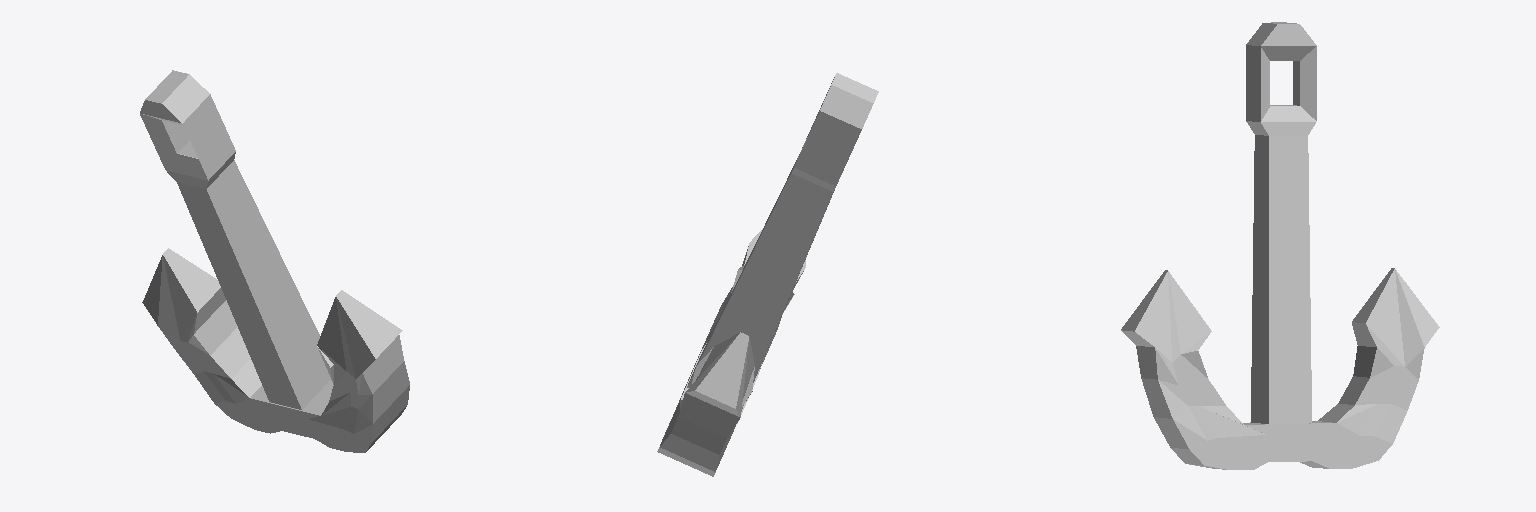
Rendered from anchor.obj.
3 renders of one model, left to right at view 1: azimuth 30°, elevation 25°; view 2: azimuth 150°, elevation 25°; view 3: azimuth 270°, elevation 25°, orthographic.
Visible parts, largest first — view 1: anchor.001; view 2: anchor.001; view 3: anchor.001.
Part boxes in pixels (left/top/right/bottom): anchor.001: left=140, top=70, right=409, bottom=452; anchor.001: left=657, top=73, right=878, bottom=476; anchor.001: left=1121, top=22, right=1439, bottom=469.
Bounding box in the file's own units: 0.6393 × 1.12 × 0.8159.